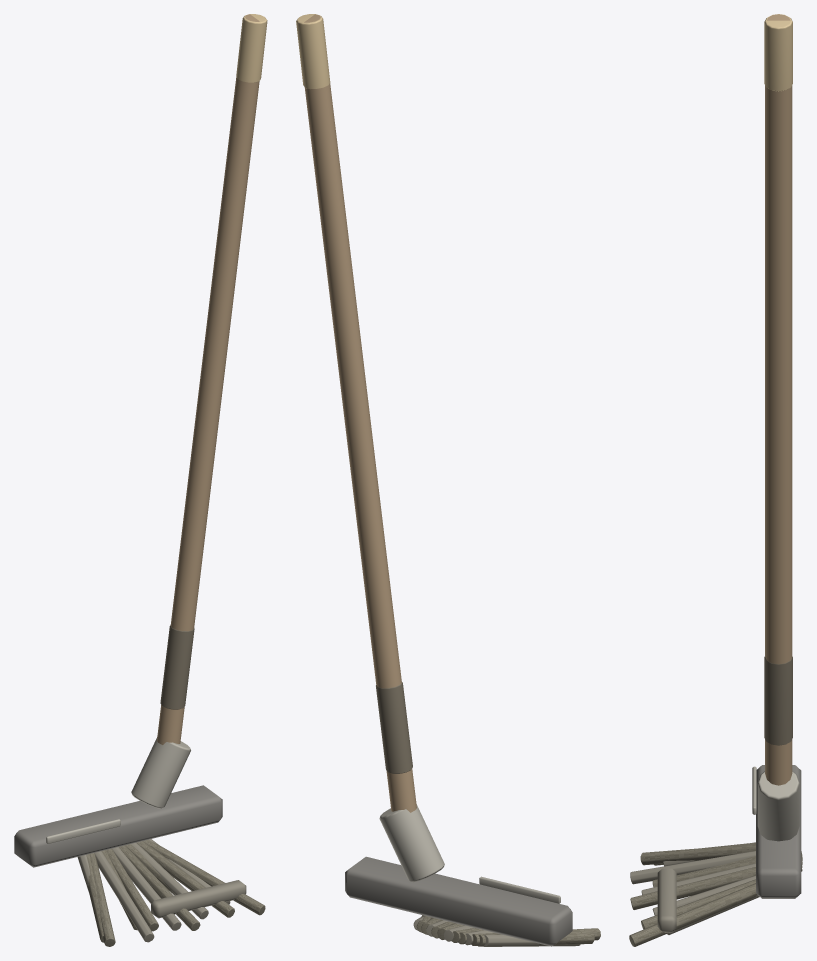
Rendered from Mop_A.glb.
3 views of the same model, side by side, from view 1: azimuth 30°, elevation 25°; view 2: azimuth 150°, elevation 25°; view 3: azimuth 270°, elevation 25° (orthographic). The views are drawn at different scales.
Parts seen in each view (by area): view 1: Mop_A_old_wood_handle, Mop_A_head_bar, Mop_A_metal_collar, Mop_A_handle_dark_wear_low, Mop_A_cloth_matted_shadow, Mop_A_handle_worn_tip, Mop_A_cloth_strand_03, Mop_A_cloth_strand_11, Mop_A_cloth_strand_10, Mop_A_cloth_strand_07, Mop_A_cloth_strand_06, Mop_A_cloth_strand_05 (+3 smaller); view 2: Mop_A_old_wood_handle, Mop_A_head_bar, Mop_A_metal_collar, Mop_A_handle_dark_wear_low, Mop_A_handle_worn_tip, Mop_A_head_edge_wear; view 3: Mop_A_old_wood_handle, Mop_A_head_bar, Mop_A_metal_collar, Mop_A_handle_dark_wear_low, Mop_A_handle_worn_tip, Mop_A_cloth_strand_11, Mop_A_cloth_strand_07, Mop_A_cloth_strand_02, Mop_A_cloth_matted_shadow, Mop_A_cloth_strand_03, Mop_A_cloth_strand_10, Mop_A_cloth_strand_05 (+2 smaller).
Part boxes in pixels (x1=…): Mop_A_old_wood_handle: x1=157, y1=14, x2=259, y2=744; Mop_A_head_bar: x1=14, y1=785, x2=222, y2=867; Mop_A_metal_collar: x1=131, y1=737, x2=190, y2=808; Mop_A_handle_dark_wear_low: x1=160, y1=625, x2=194, y2=709; Mop_A_cloth_matted_shadow: x1=151, y1=880, x2=246, y2=918; Mop_A_handle_worn_tip: x1=236, y1=14, x2=267, y2=82; Mop_A_cloth_strand_03: x1=95, y1=851, x2=154, y2=942; Mop_A_cloth_strand_11: x1=142, y1=839, x2=265, y2=915; Mop_A_cloth_strand_10: x1=136, y1=841, x2=234, y2=917; Mop_A_cloth_strand_07: x1=119, y1=845, x2=200, y2=930; Mop_A_cloth_strand_06: x1=112, y1=847, x2=181, y2=930; Mop_A_cloth_strand_05: x1=105, y1=848, x2=158, y2=931; Mop_A_old_wood_handle: x1=304, y1=14, x2=416, y2=812; Mop_A_head_bar: x1=345, y1=856, x2=572, y2=946; Mop_A_metal_collar: x1=379, y1=804, x2=444, y2=882; Mop_A_handle_dark_wear_low: x1=376, y1=682, x2=412, y2=773; Mop_A_handle_worn_tip: x1=296, y1=14, x2=330, y2=89; Mop_A_head_edge_wear: x1=479, y1=876, x2=560, y2=903; Mop_A_old_wood_handle: x1=765, y1=14, x2=792, y2=785; Mop_A_head_bar: x1=756, y1=765, x2=801, y2=898; Mop_A_metal_collar: x1=757, y1=771, x2=799, y2=841; Mop_A_handle_dark_wear_low: x1=764, y1=656, x2=792, y2=745; Mop_A_handle_worn_tip: x1=764, y1=14, x2=792, y2=91; Mop_A_cloth_strand_11: x1=629, y1=883, x2=757, y2=946; Mop_A_cloth_strand_07: x1=630, y1=863, x2=802, y2=909; Mop_A_cloth_strand_02: x1=640, y1=844, x2=755, y2=865; Mop_A_cloth_matted_shadow: x1=657, y1=868, x2=676, y2=932; Mop_A_cloth_strand_03: x1=630, y1=851, x2=755, y2=884; Mop_A_cloth_strand_10: x1=641, y1=879, x2=755, y2=929; Mop_A_cloth_strand_05: x1=652, y1=853, x2=802, y2=887.
Bounding box in the file's own units: 0.4286 × 1.41 × 0.2303.
7 materials, 1 textured.
